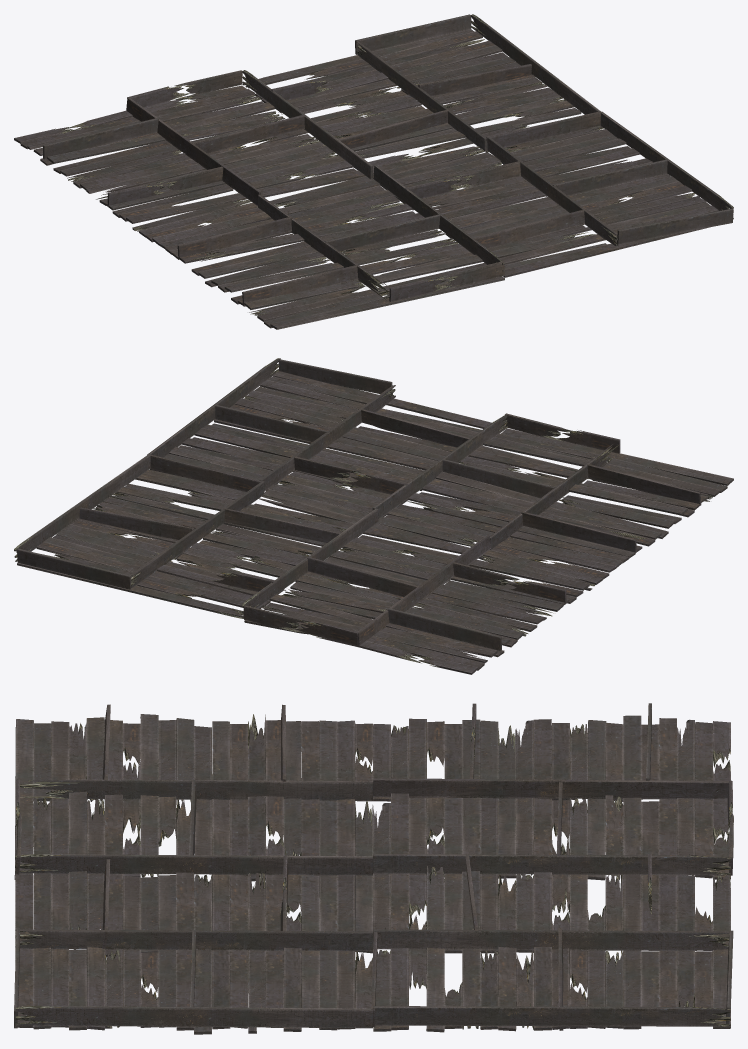
Rendered from SM_CeilingA400x400.FBX.
3 views of the same model, one above another, from view 1: azimuth 30°, elevation 25°; view 2: azimuth 150°, elevation 25°; view 3: azimuth 270°, elevation 25° (orthographic). The views are drawn at different scales.
Visible parts, largest first — view 1: SM_CeilingA400x400_LOD0; view 2: SM_CeilingA400x400_LOD0; view 3: SM_CeilingA400x400_LOD0.
Boxes of the visible parts, <box> form: SM_CeilingA400x400_LOD0: <box>14,14,733,329</box>; SM_CeilingA400x400_LOD0: <box>14,358,733,674</box>; SM_CeilingA400x400_LOD0: <box>14,703,733,1034</box>.
Size of what is drawn, in the model's own units: 407 by 20.56 by 403.
